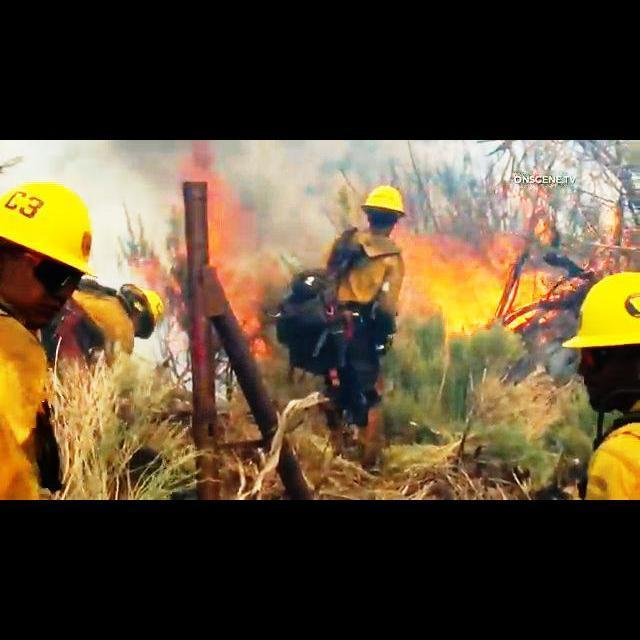Fire: (411, 240, 561, 338)
